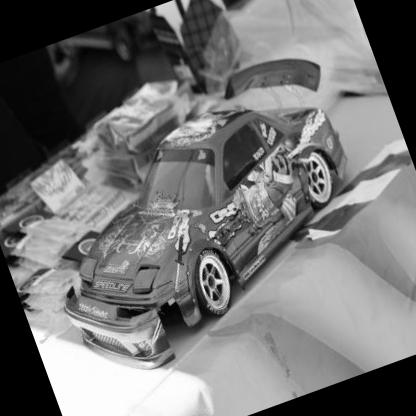car: (1, 43, 402, 387)
